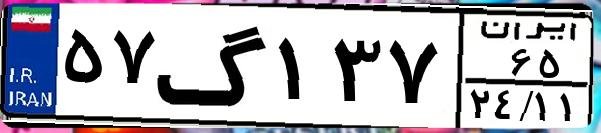1: (270, 28, 330, 110), (560, 70, 590, 125), (535, 70, 560, 125)
2: (470, 70, 495, 125)
3: (330, 28, 385, 110)
4: (495, 70, 520, 125)
5: (57, 26, 110, 100), (537, 27, 568, 80)
6: (508, 27, 537, 80)
7: (385, 28, 445, 110), (110, 28, 156, 98)
گ: (156, 12, 270, 120)
